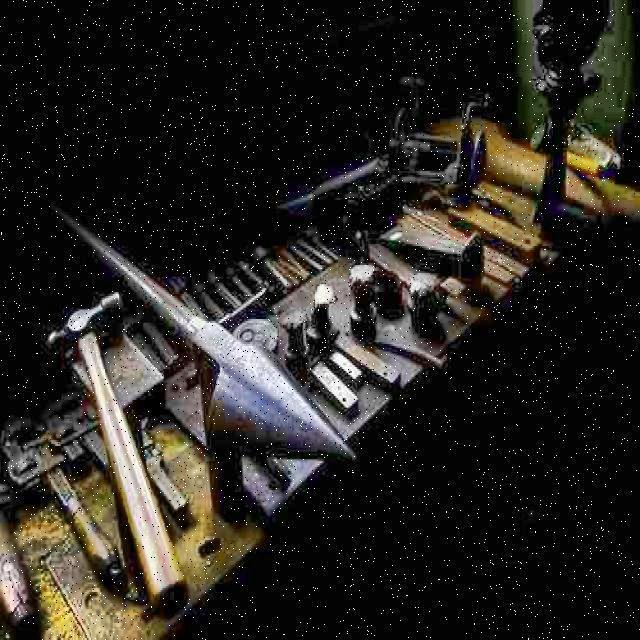hammer: (47, 293, 189, 613)
